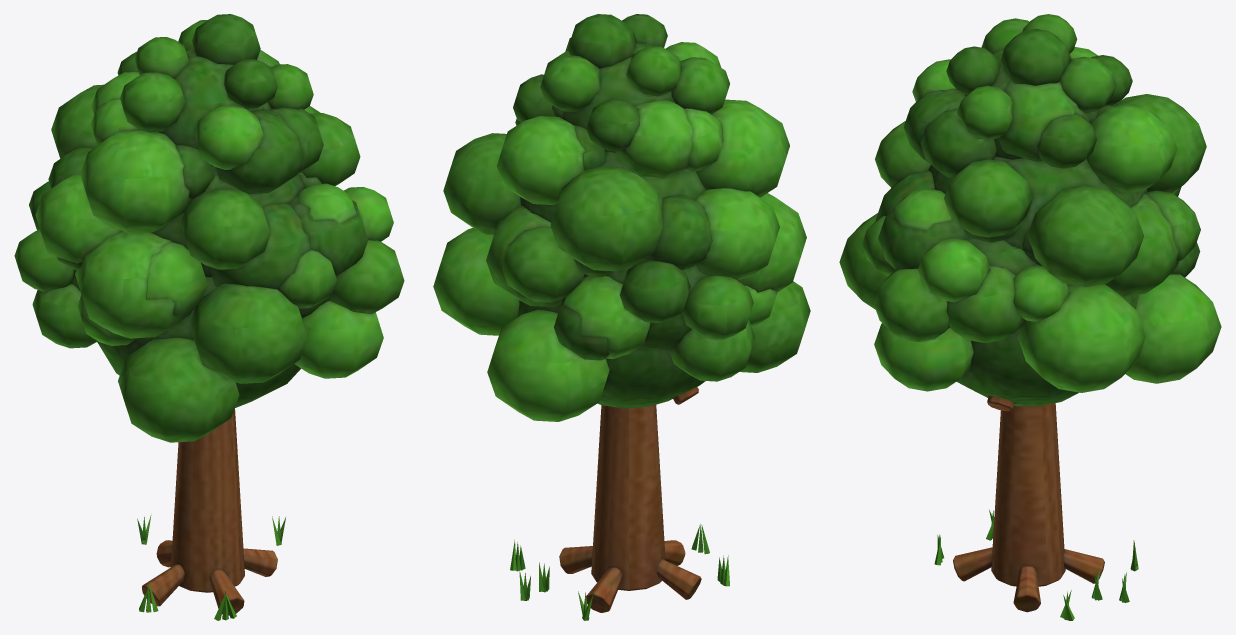
File: hickory_tree.glb
The picture shows the model from 3 angles, left to right: view 1: azimuth 30°, elevation 25°; view 2: azimuth 150°, elevation 25°; view 3: azimuth 270°, elevation 25°; orthographic projection.
Visible parts, largest first — view 1: crown, hickory_tree; view 2: crown, hickory_tree; view 3: crown, hickory_tree.
Boxes of the visible parts, x1,y1,x2,y2 form: crown: [14, 14, 404, 442]; hickory_tree: [137, 408, 285, 620]; crown: [433, 14, 810, 421]; hickory_tree: [510, 387, 729, 620]; crown: [839, 14, 1221, 406]; hickory_tree: [934, 396, 1138, 620].
Bounding box in the file's own units: 1.05 × 1.79 × 1.1.
Materials: 1 (1 with a texture image).
